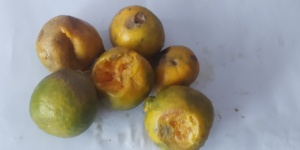BAD: (145, 85, 216, 150), (30, 73, 101, 137), (91, 47, 155, 116), (35, 13, 101, 76), (109, 3, 167, 62), (144, 44, 200, 90)
